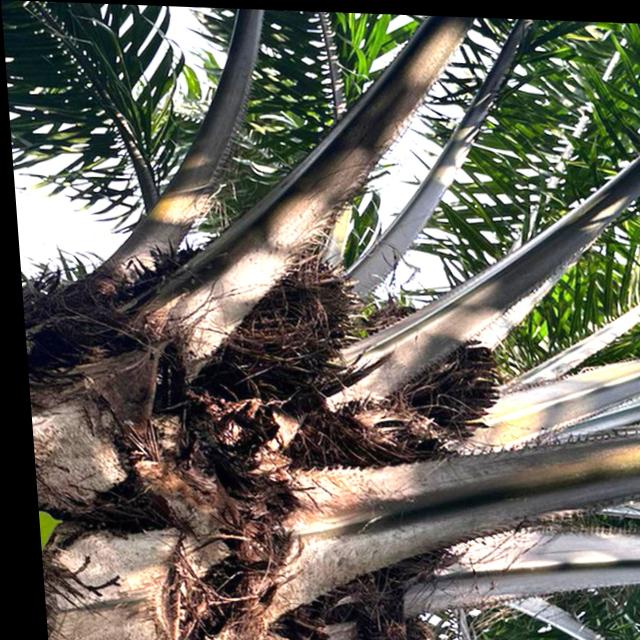ripe: (234, 252, 366, 374)
